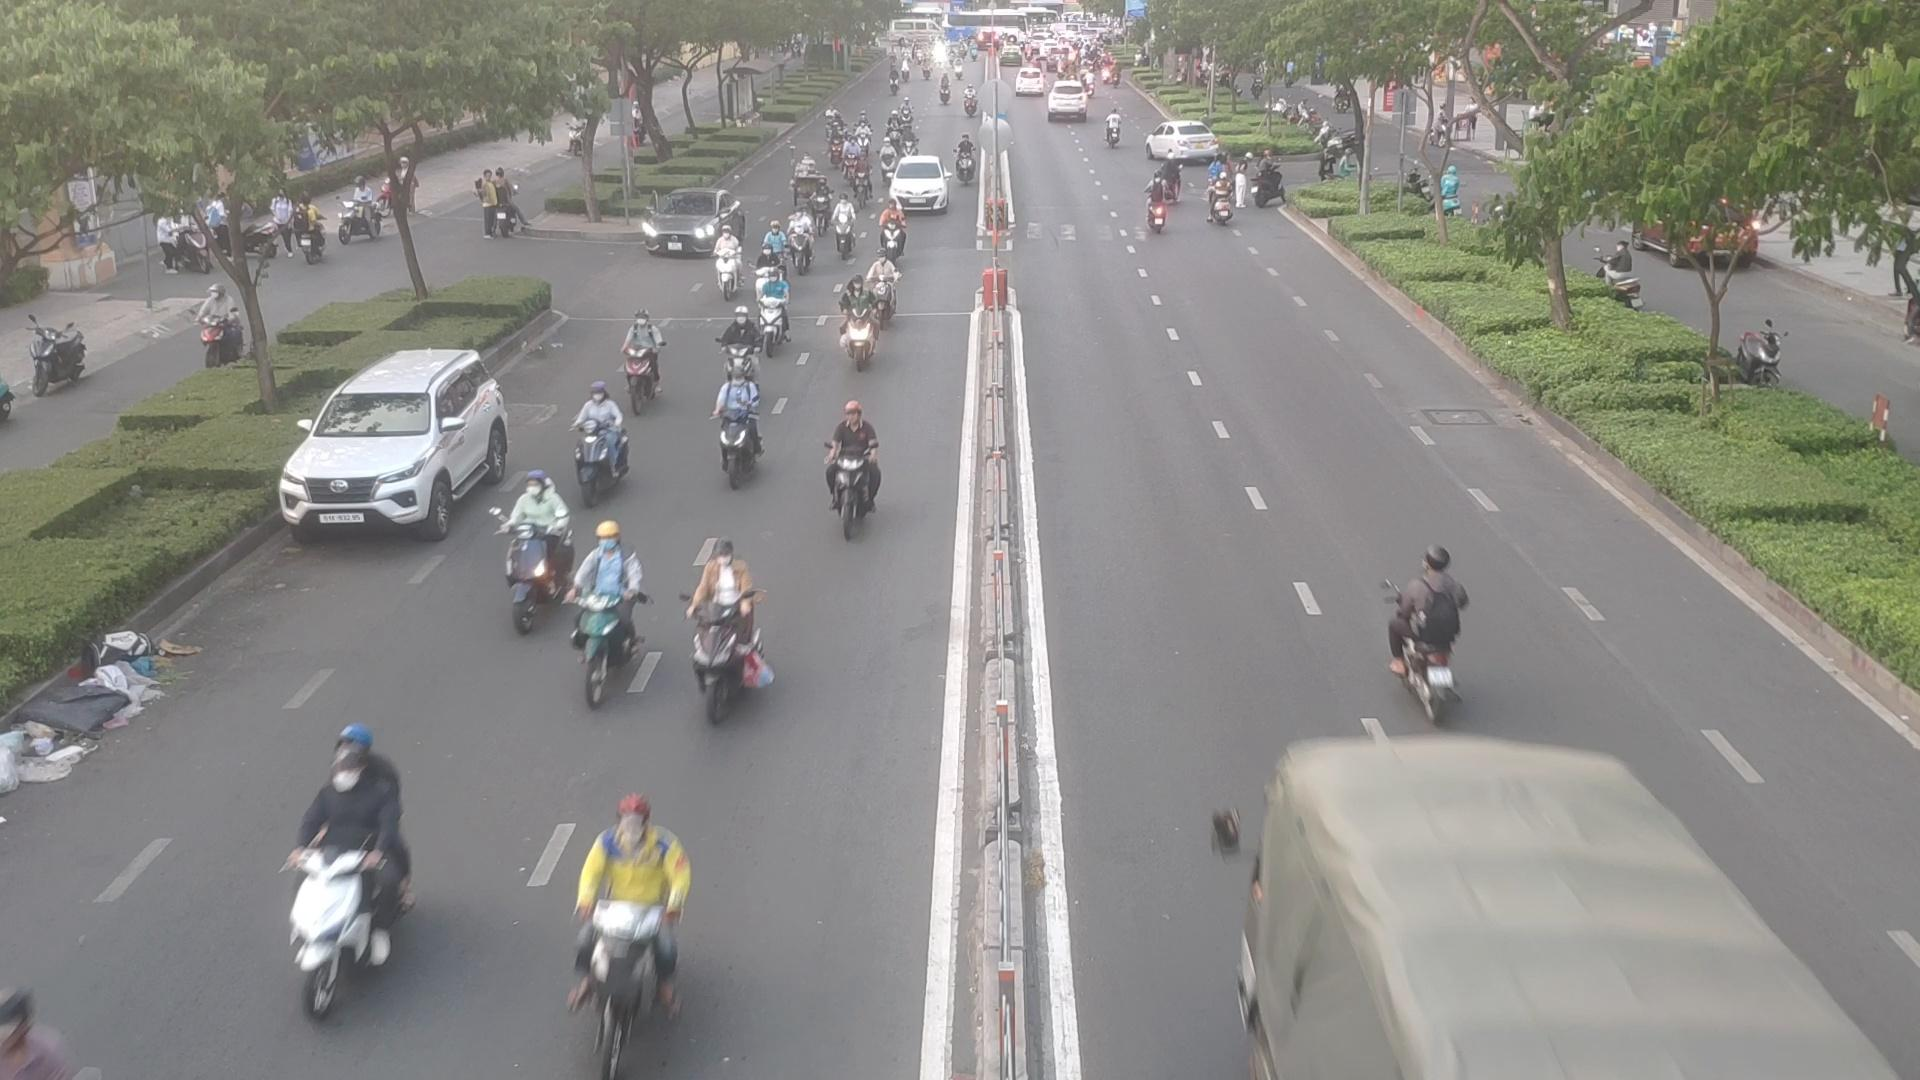car: (281, 353, 513, 545), (636, 190, 735, 257), (891, 156, 951, 210), (1149, 123, 1226, 164)
motorbike: (277, 723, 421, 1026), (563, 795, 687, 1080), (688, 533, 773, 725), (1387, 535, 1466, 738), (576, 524, 641, 709), (506, 472, 563, 634), (816, 398, 881, 539), (572, 384, 626, 502), (709, 368, 760, 483), (624, 311, 663, 415), (843, 277, 869, 369), (758, 273, 789, 352), (868, 251, 898, 324), (713, 229, 742, 294), (789, 208, 815, 272), (876, 200, 901, 262), (1153, 152, 1182, 204), (1145, 173, 1168, 236), (835, 200, 857, 257), (814, 182, 835, 236), (955, 136, 972, 182), (827, 131, 847, 169), (1213, 171, 1229, 219), (855, 156, 869, 198), (847, 136, 860, 181), (880, 136, 893, 179), (899, 125, 913, 164), (857, 125, 870, 154)
